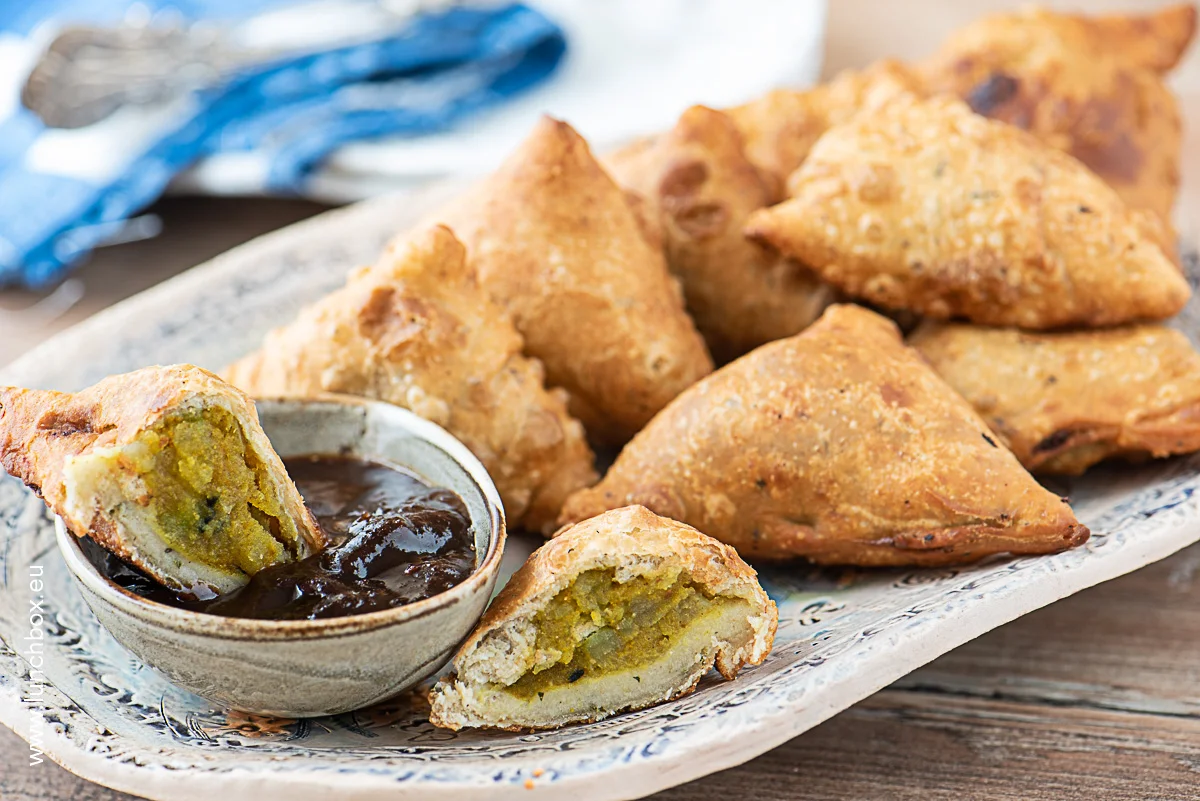samosa: (586, 308, 1092, 554), (422, 504, 774, 736), (814, 114, 1184, 306), (4, 386, 328, 592), (242, 228, 526, 402), (476, 98, 654, 286)
